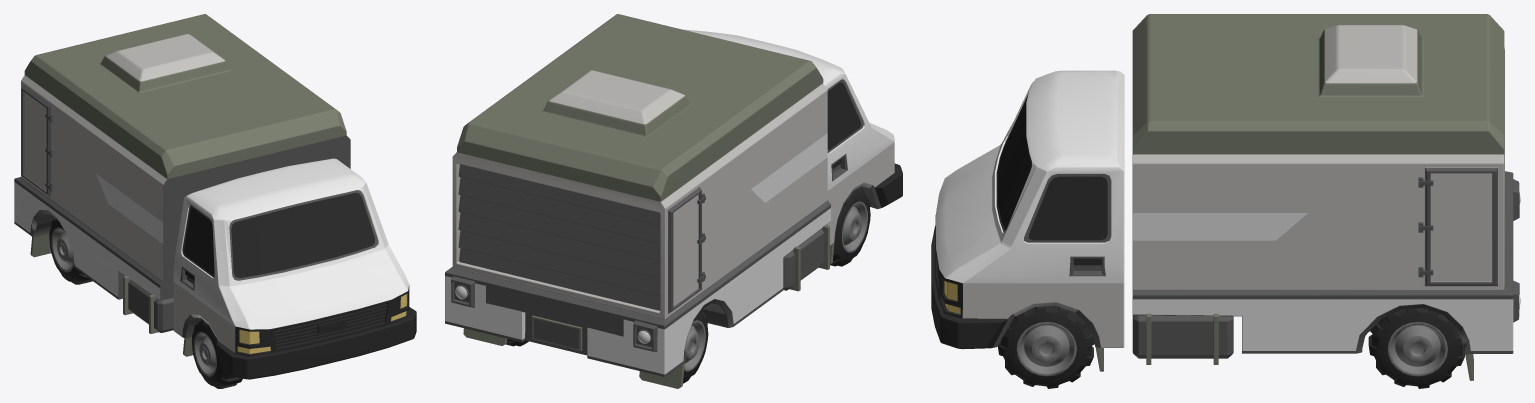
Rendered from truck.glb.
3 renders of one model, left to right at view 1: azimuth 30°, elevation 25°; view 2: azimuth 150°, elevation 25°; view 3: azimuth 270°, elevation 25°, orthographic. The views are drawn at different scales.
Visible parts, largest first — view 1: Truck, FrontWheel_R, BackWheels; view 2: Truck, FrontWheel_R, BackWheels; view 3: Truck, FrontWheel_L, BackWheels.
Part boxes in pixels (box(x1,y1,x2,y2)): Truck: box(14, 14, 416, 379); FrontWheel_R: box(191, 318, 242, 388); BackWheels: box(49, 217, 92, 284); Truck: box(445, 14, 902, 388); FrontWheel_R: box(830, 186, 870, 266); BackWheels: box(505, 309, 708, 383); Truck: box(931, 14, 1520, 380); FrontWheel_L: box(998, 305, 1094, 388); BackWheels: box(1368, 308, 1464, 388).
Size of the model in its own units: 2.71 by 2.88 by 5.26.
4 materials, 1 textured.
